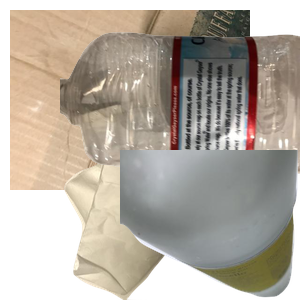cardboard: (10, 10, 250, 190)
glass: (120, 150, 300, 300)
plastic: (60, 30, 300, 196)
trash: (62, 120, 251, 300)
